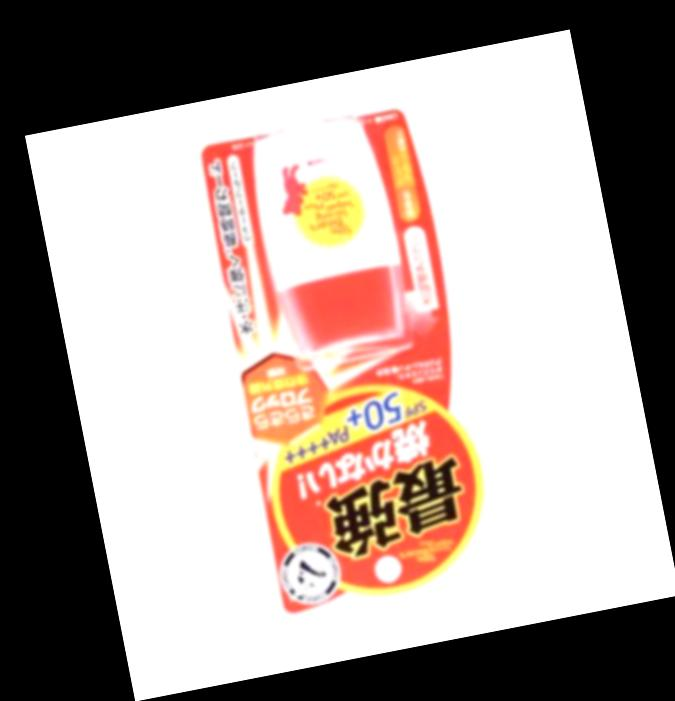cosmetic: (241, 106, 414, 360)
